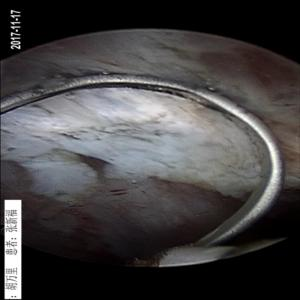film: (186, 48, 289, 111)
